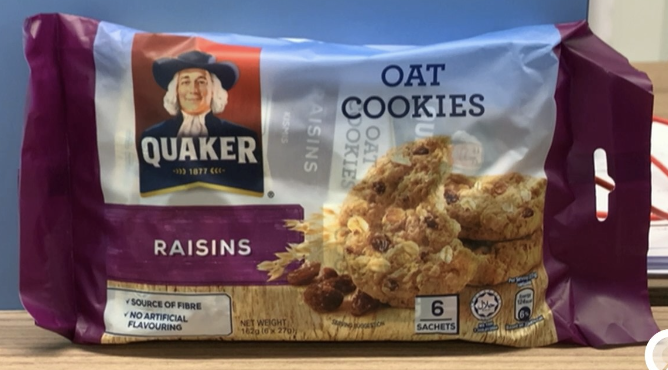cookies_100g-199g: (107, 47, 551, 336)
